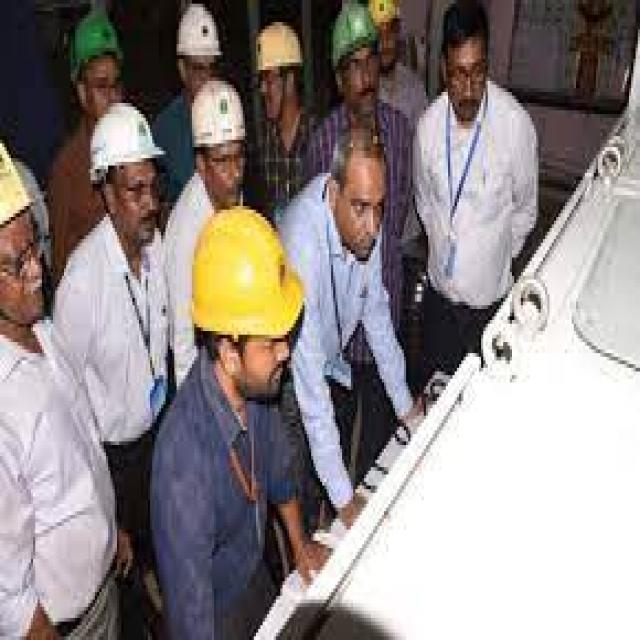Safety-Helmet: (186, 202, 304, 350), (86, 96, 166, 176), (0, 125, 42, 272), (190, 77, 247, 151), (327, 0, 384, 66), (68, 8, 124, 74), (252, 18, 304, 78), (174, 0, 223, 63)
